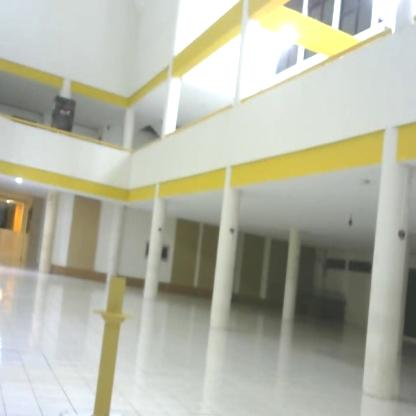pole: (86, 265, 144, 416)
